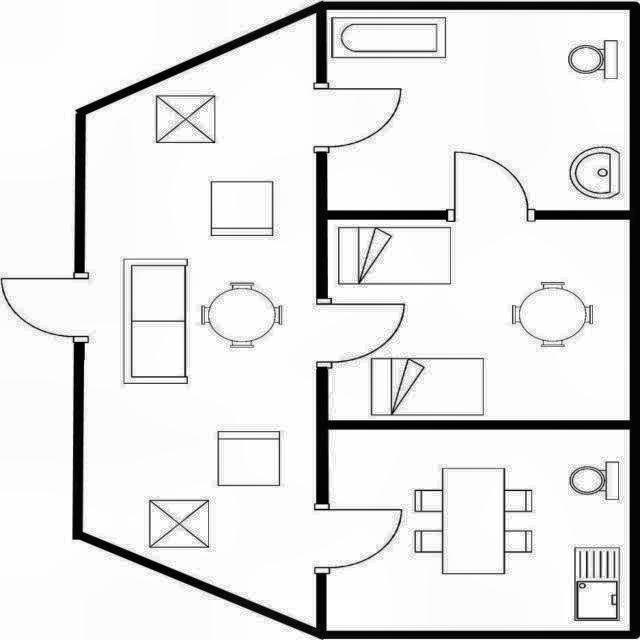room: (83, 13, 316, 627), (328, 10, 629, 210), (329, 429, 628, 630), (329, 220, 627, 420)
